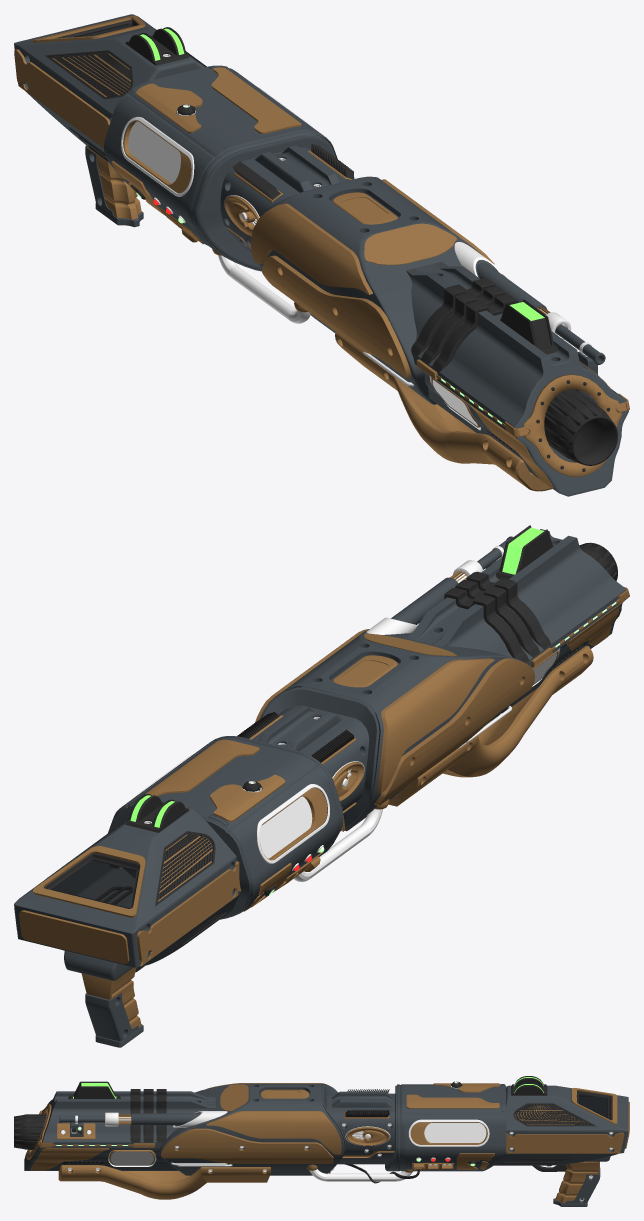
3 renders of one model, top to bottom at view 1: azimuth 30°, elevation 25°; view 2: azimuth 150°, elevation 25°; view 3: azimuth 270°, elevation 25°, orthographic. The views are drawn at different scales.
Visible parts, largest first — view 1: Body, object 7, object 2, object 4, Body.002, Body.001; view 2: Body, object 4, Body.002, Body.001; view 3: Body, object 4, Body.002, object 7, Body.001, object 2, Vinty, Body.004.
Part boxes in pixels (left/top/right/bottom): Body: left=14, top=14, right=629, bottom=496; object 7: left=544, top=389, right=617, bottom=465; object 2: left=523, top=374, right=622, bottom=476; object 4: left=454, top=242, right=610, bottom=388; Body.002: left=211, top=67, right=301, bottom=133; Body.001: left=136, top=83, right=202, bottom=133; Body: left=14, top=525, right=629, bottom=1047; object 4: left=366, top=536, right=513, bottom=634; Body.002: left=146, top=739, right=259, bottom=796; Body.001: left=210, top=774, right=285, bottom=821; Body: left=24, top=1076, right=629, bottom=1206; object 4: left=57, top=1111, right=227, bottom=1139; Body.002: left=406, top=1094, right=499, bottom=1108; object 7: left=14, top=1114, right=46, bottom=1149; Body.001: left=433, top=1081, right=499, bottom=1092; object 2: left=26, top=1104, right=51, bottom=1159; Vinty: left=68, top=1123, right=613, bottom=1201; Body.004: left=345, top=1164, right=419, bottom=1183.
Bounding box in the file's own units: 3.17 × 4.18 × 19.03.
